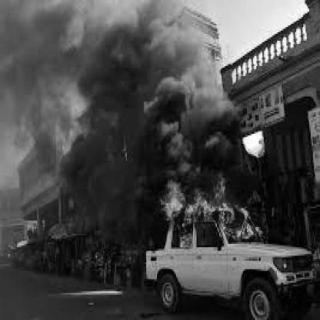Smoke: (0, 0, 260, 188)
